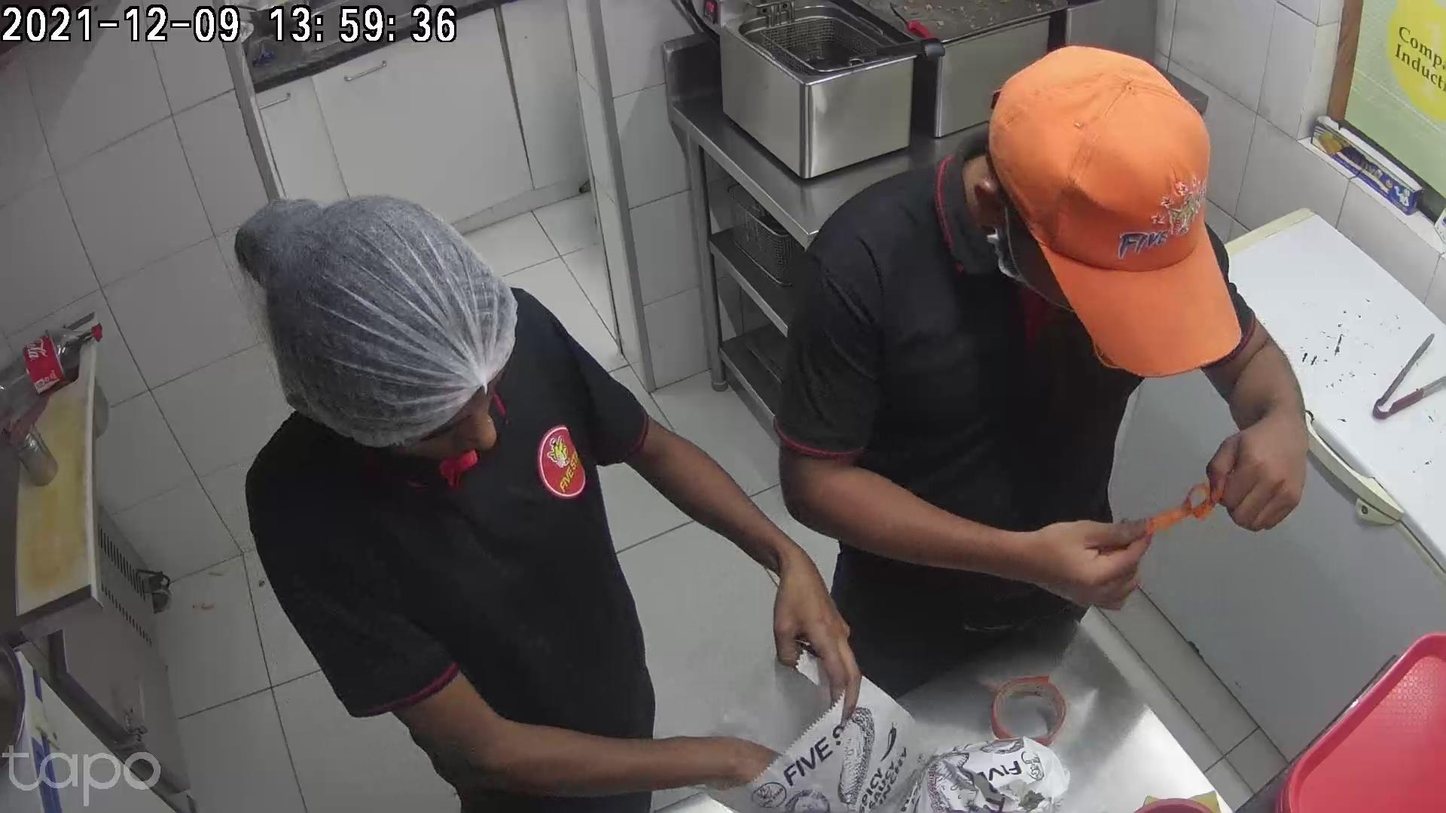no_gloves: (772, 545, 856, 708), (974, 525, 1149, 603)
